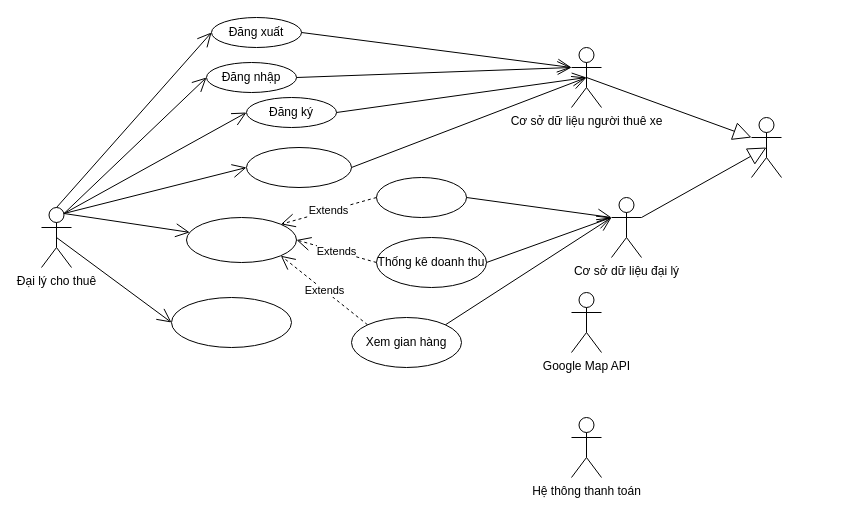
Some shapes in this 850 by 516 pixel diagram are drawn without their labels. Each missing label, with the box of its shape:
Hệ quản trị cơ sở dữ liệu: (750, 116, 782, 178)
Lịch sử cho thuê: (376, 176, 466, 218)
Xem hồ sơ cá nhân: (186, 216, 296, 262)
Xem hồ sơ khách đặt thuê xe: (246, 146, 352, 188)
Xác định thông tin đặt hàng: (170, 296, 292, 348)
